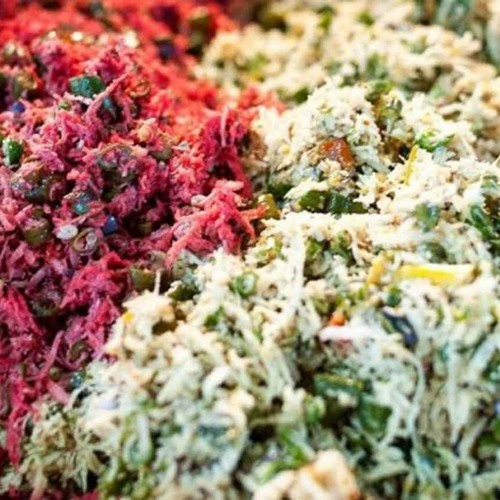lawar: (26, 100, 377, 480)
